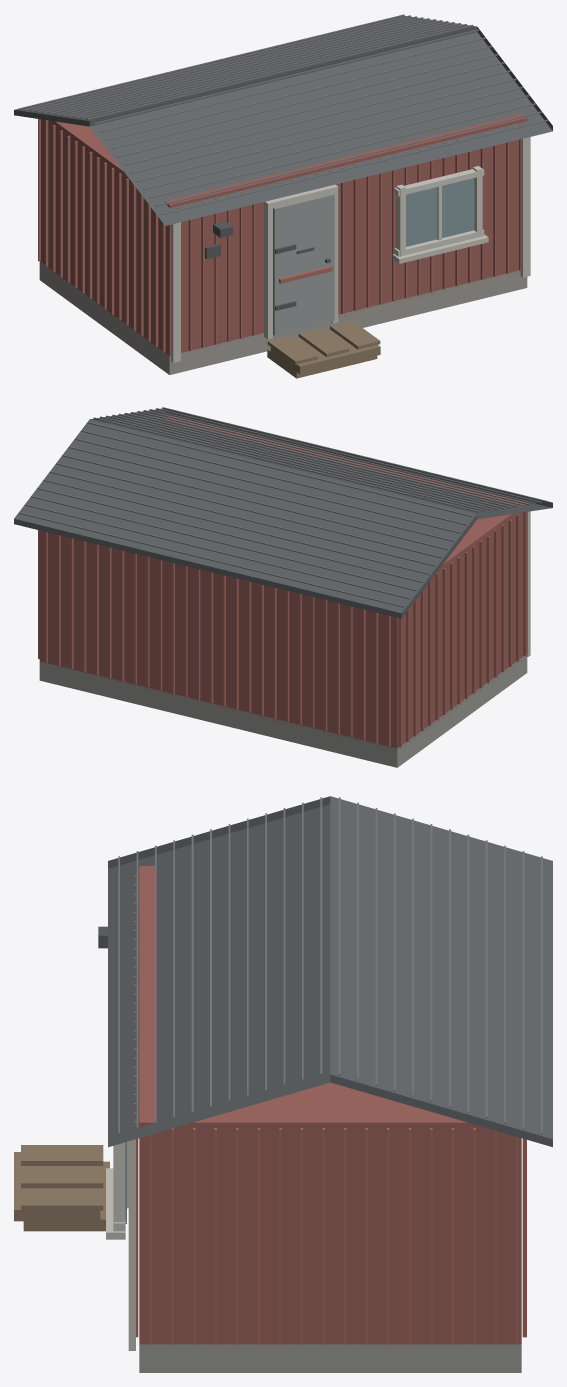
File: faltboden_forsta_utkast.glb
The picture shows the model from 3 angles, top to bottom: view 1: azimuth 30°, elevation 25°; view 2: azimuth 150°, elevation 25°; view 3: azimuth 270°, elevation 25°; orthographic projection. The views are drawn at different scales.
Visible parts, largest first — view 1: takplatta_-1, fasad, grundsockel, gra_dorr, takplatta_1, fonster_glas, trappsteg_1, hornlist_1, hornlist_-1, dorrkarm_v, takprofil_-1_0, takprofil_-1_9 (+57 smaller); view 2: fasad, takplatta_1, grundsockel, takplatta_-1, takprofil_1_3, takprofil_1_11, takprofil_1_1, takprofil_1_2, takprofil_1_4, takprofil_-1_4, takprofil_-1_5, takprofil_-1_9 (+51 smaller); view 3: fasad, takplatta_1, takplatta_-1, grundsockel, trappa_ribba_1, trappa_ribba_2, trappsteg_1, trappa_ribba_0, hornlist_1, trappsteg_0, fonster_ram_sta_2.125, fasad_lakt_bak_27 (+17 smaller).
Part boxes in pixels (<box>): takplatta_-1: <box>89,26,552,225</box>; fasad: <box>40,114,527,356</box>; grundsockel: <box>39,261,527,374</box>; gra_dorr: <box>273,193,334,335</box>; takplatta_1: <box>14,16,476,126</box>; fonster_glas: <box>406,178,474,246</box>; trappsteg_1: <box>270,330,380,374</box>; hornlist_1: <box>520,137,530,277</box>; hornlist_-1: <box>171,222,180,362</box>; dorrkarm_v: <box>264,204,272,339</box>; takprofil_-1_0: <box>93,29,479,124</box>; takprofil_-1_9: <box>149,103,535,198</box>; fasad: <box>39,415,527,750</box>; takplatta_1: <box>14,419,477,618</box>; grundsockel: <box>39,654,527,767</box>; takplatta_-1: <box>90,408,552,519</box>; takprofil_1_3: <box>68,446,454,541</box>; takprofil_1_11: <box>18,512,404,607</box>; takprofil_1_1: <box>81,430,466,525</box>; takprofil_1_2: <box>75,438,460,533</box>; takprofil_1_4: <box>62,455,448,550</box>; takprofil_-1_4: <box>118,413,504,508</box>; takprofil_-1_5: <box>124,412,510,507</box>; takprofil_-1_9: <box>149,409,535,504</box>; fasad: <box>139,866,521,1348</box>; takplatta_1: <box>330,796,552,1147</box>; takplatta_-1: <box>108,796,330,1147</box>; grundsockel: <box>139,1344,521,1372</box>; trappa_ribba_1: <box>21,1167,103,1188</box>; trappa_ribba_2: <box>21,1189,103,1210</box>; trappsteg_1: <box>14,1152,100,1221</box>; trappa_ribba_0: <box>21,1145,103,1165</box>; hornlist_1: <box>128,1139,135,1350</box>; trappsteg_0: <box>23,1161,109,1231</box>; fonster_ram_sta_2.125: <box>113,1142,125,1229</box>; fasad_lakt_bak_27: <box>522,1138,526,1337</box>.
Bounding box in the file's own units: 6.72 × 3.48 × 5.5.
